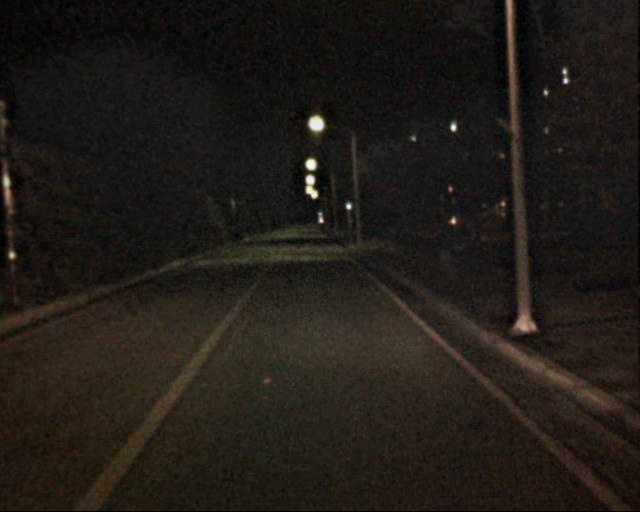person: (432, 217, 455, 273), (449, 219, 471, 272)
